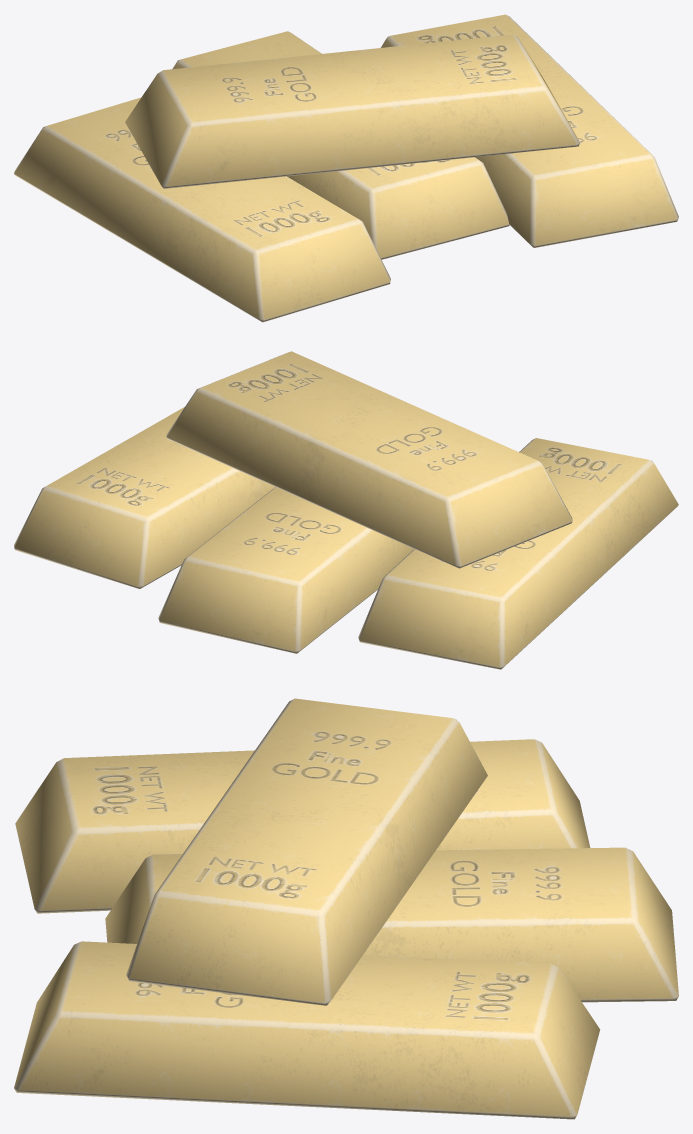
Rendered from Gold-V03.glb.
3 renders of one model, top to bottom at view 1: azimuth 30°, elevation 25°; view 2: azimuth 150°, elevation 25°; view 3: azimuth 270°, elevation 25°, orthographic. The views are drawn at different scales.
Visible parts, largest first — view 1: Gold V03 - 2500; view 2: Gold V03 - 2500; view 3: Gold V03 - 2500.
Part boxes in pixels (x1,y1,x2,y2): Gold V03 - 2500: (14, 14, 678, 322); Gold V03 - 2500: (14, 351, 678, 669); Gold V03 - 2500: (14, 698, 678, 1119).
Size of the model in its own units: 0.7237 by 0.1606 by 0.6395.
Materials: 1 (1 with a texture image).
